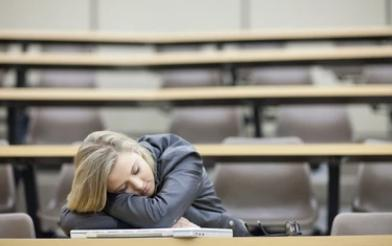sleep: (60, 131, 245, 239)
